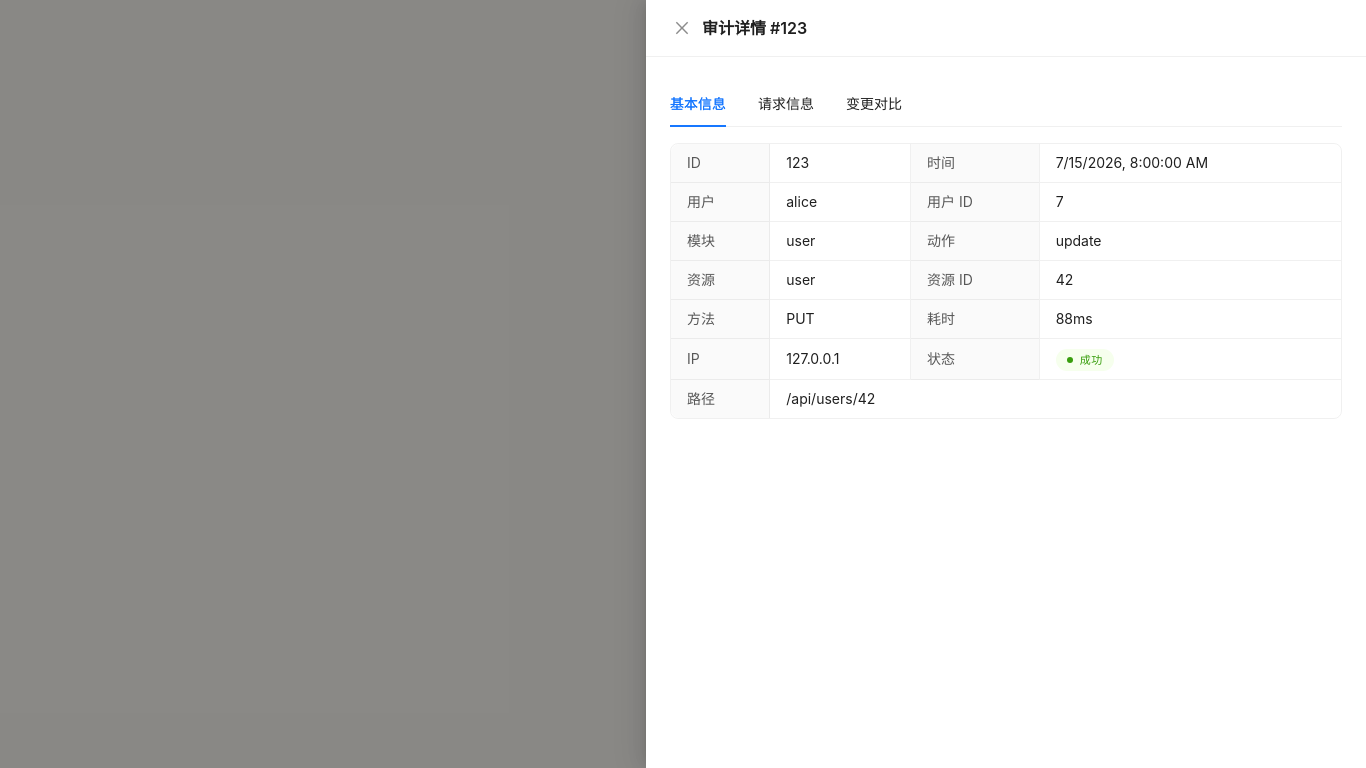
Test: <AuditLogDetailDrawer /> › switches to diff tab and renders oldValue + newValue JSON
// 点 "变更对比" tab
What coordinates should you click on to do the following:
click the tab "变更对比"
I would click on:
 (874, 104)
Its box is [846,93,902,115].
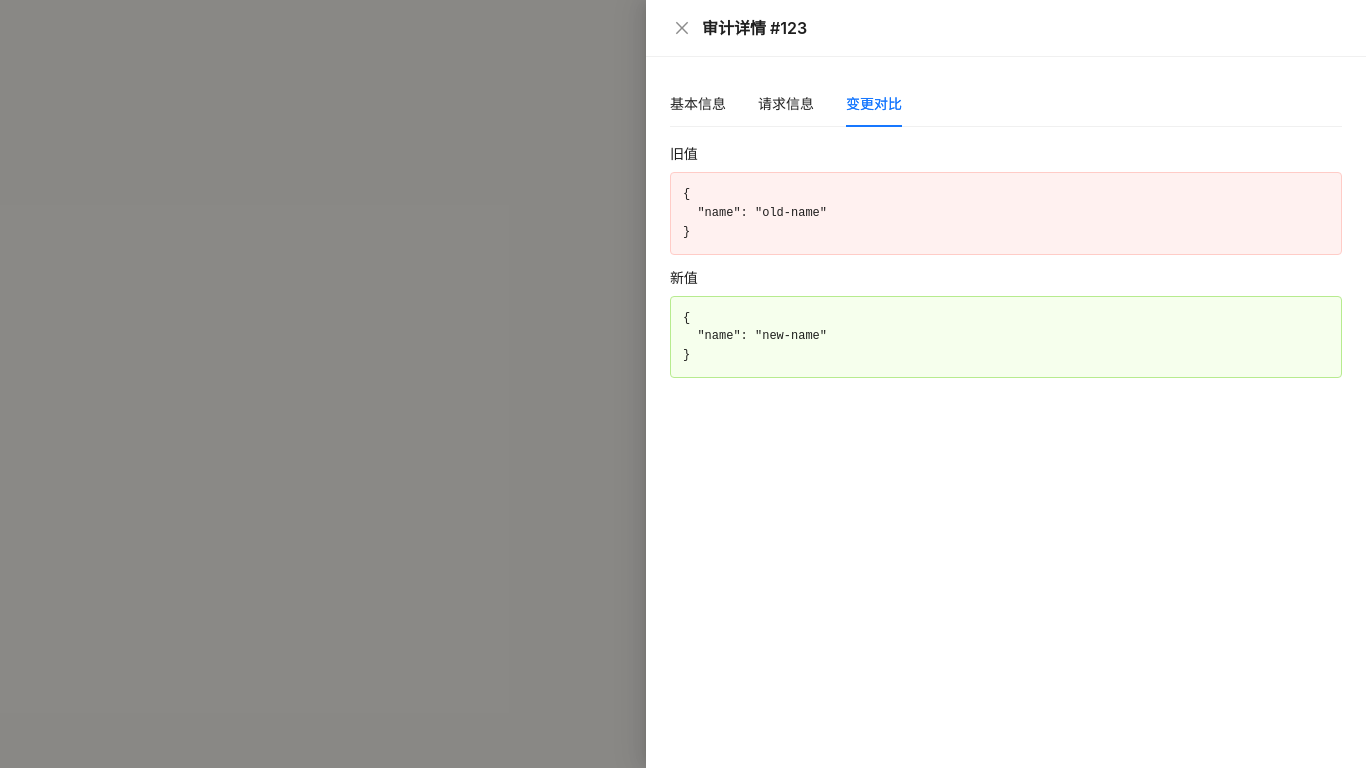
expect the text "{ \"name\": \"old-name\" }" is shown: met, box [670,172,1342,254]
expect the text "{ \"name\": \"new-name\" }" is shown: met, box [670,296,1342,378]
